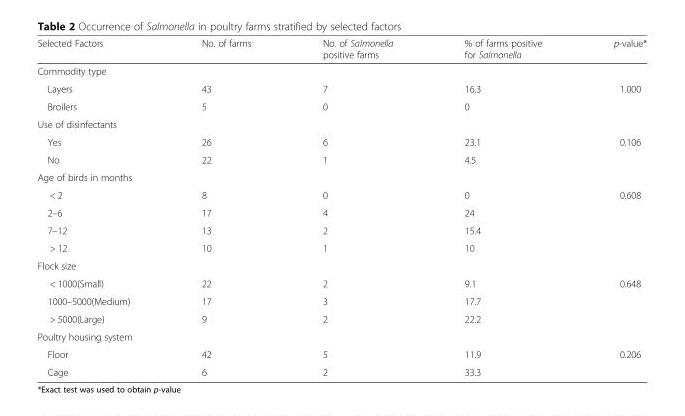table: (36, 37, 646, 377)
table column: (428, 37, 577, 377), (286, 37, 428, 377), (36, 37, 165, 377), (165, 37, 286, 377), (577, 37, 646, 377)
table column header: (36, 37, 646, 62)
table projected row header: (36, 256, 646, 274), (36, 327, 646, 345), (36, 62, 646, 79), (36, 115, 646, 132), (36, 168, 646, 185)
table row: (36, 37, 646, 62), (36, 79, 646, 97), (36, 97, 646, 115), (36, 132, 646, 150), (36, 150, 646, 168), (36, 185, 646, 203), (36, 203, 646, 221), (36, 238, 646, 256), (36, 256, 646, 274), (36, 274, 646, 292), (36, 309, 646, 327), (36, 327, 646, 345), (36, 62, 646, 79), (36, 115, 646, 132), (36, 168, 646, 185), (36, 221, 646, 238), (36, 292, 646, 309), (36, 345, 646, 362), (36, 362, 646, 377)
